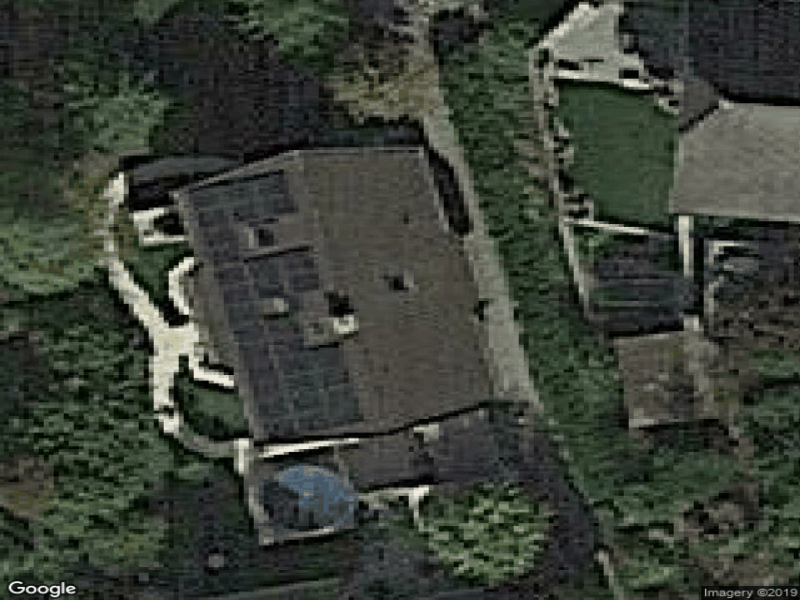pv: (187, 171, 367, 435)
